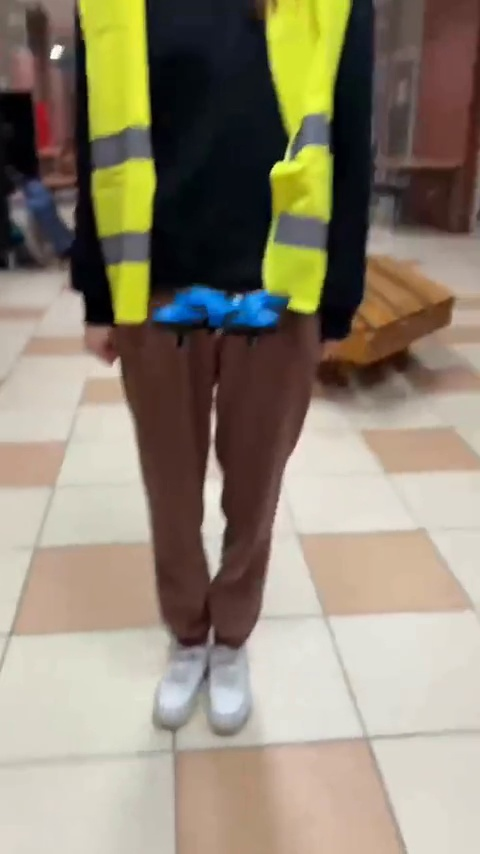drone: (150, 288, 295, 357)
vest: (71, 66, 382, 731)
